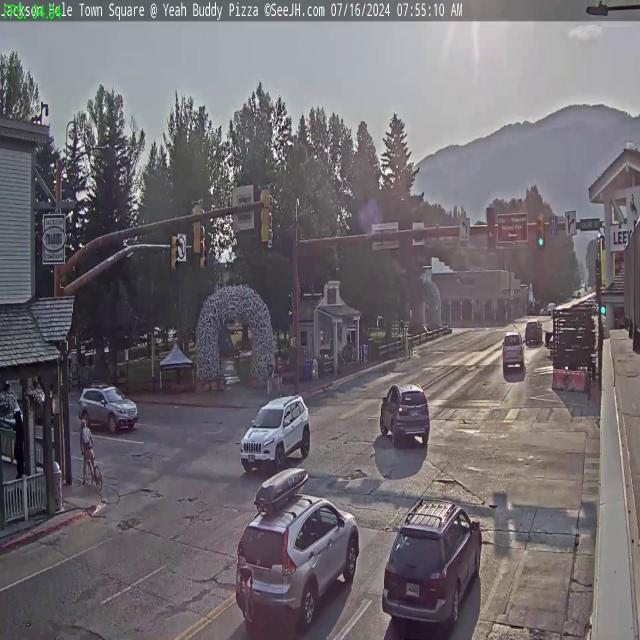bike: (81, 452, 105, 492)
person: (80, 412, 100, 489)
suv: (234, 494, 361, 640), (381, 496, 486, 639), (240, 392, 312, 476), (379, 382, 431, 448), (78, 384, 139, 435), (501, 332, 524, 371), (524, 319, 543, 342)
traffic light: (260, 182, 272, 245), (190, 199, 203, 256), (486, 207, 496, 252), (170, 234, 179, 271), (537, 214, 545, 248)
